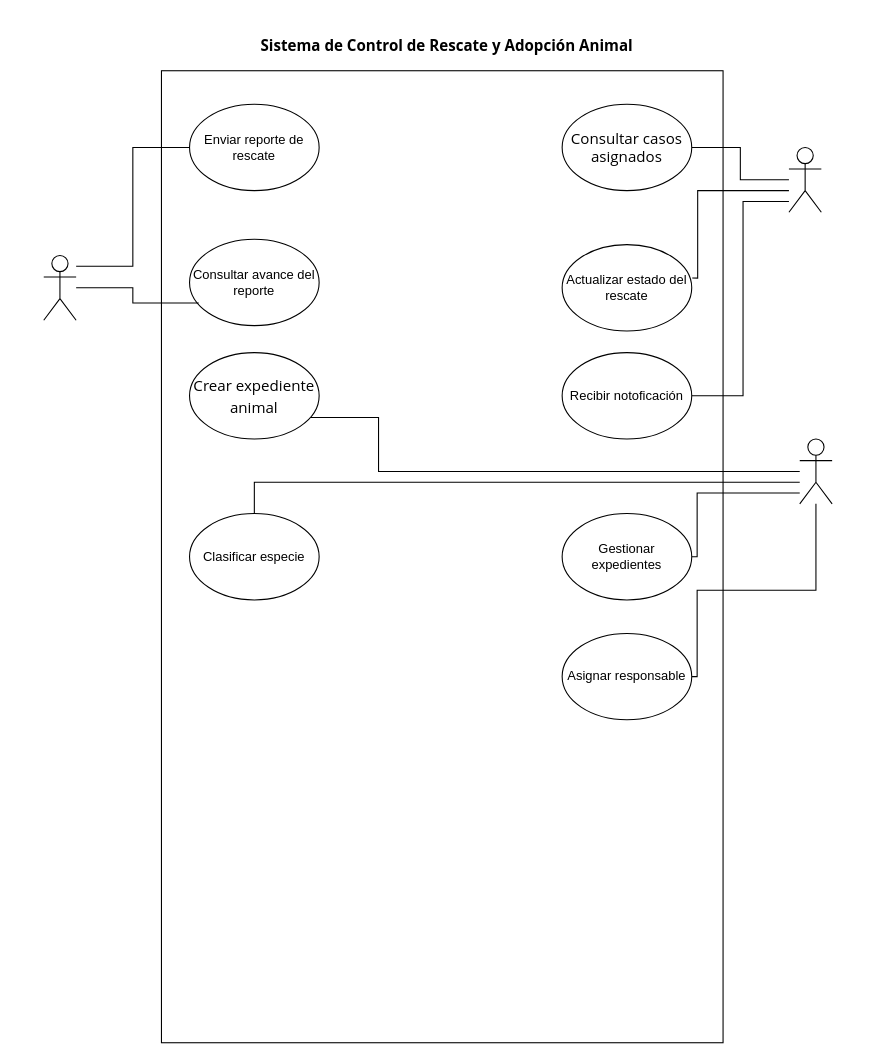
Some shapes in this 885 by 1062 pixel diagram are drawn without their labels. The centre of each missing label's shape, as x and y in pixels:
Administrador del Refugio: pixel 815 471
Ciudadano/ Reportante: pixel 59 287
Voluntario/ Veterinario: pixel 804 179
